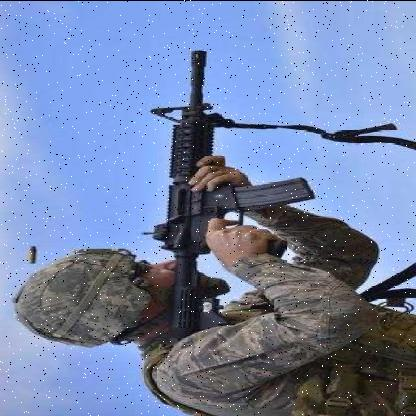rifle: (152, 42, 295, 341)
